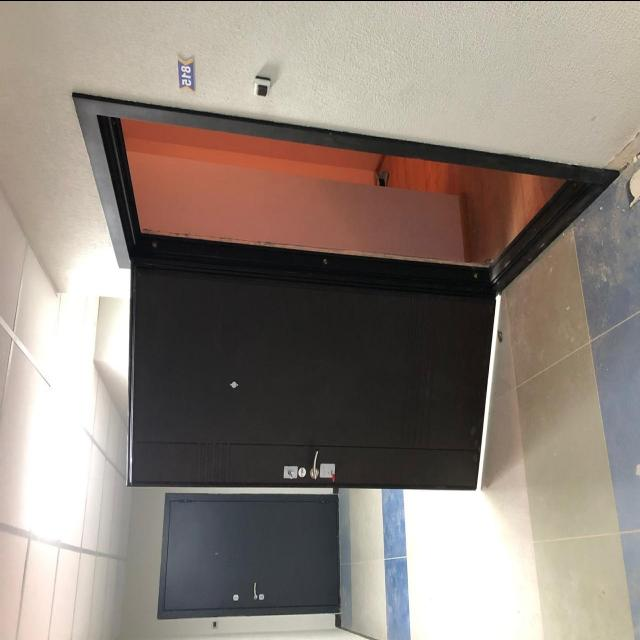close: (166, 494, 344, 616)
open: (99, 106, 553, 472)
